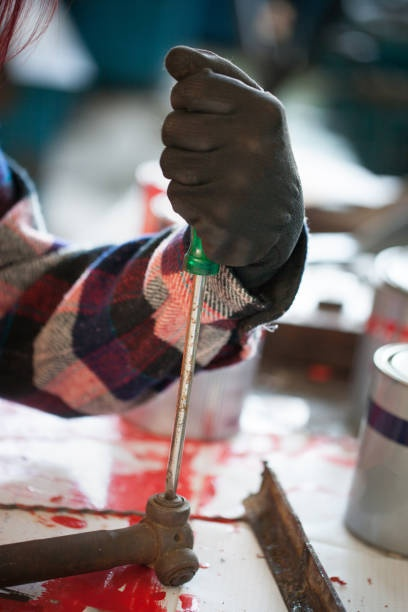screwdriver: (156, 68, 254, 502)
